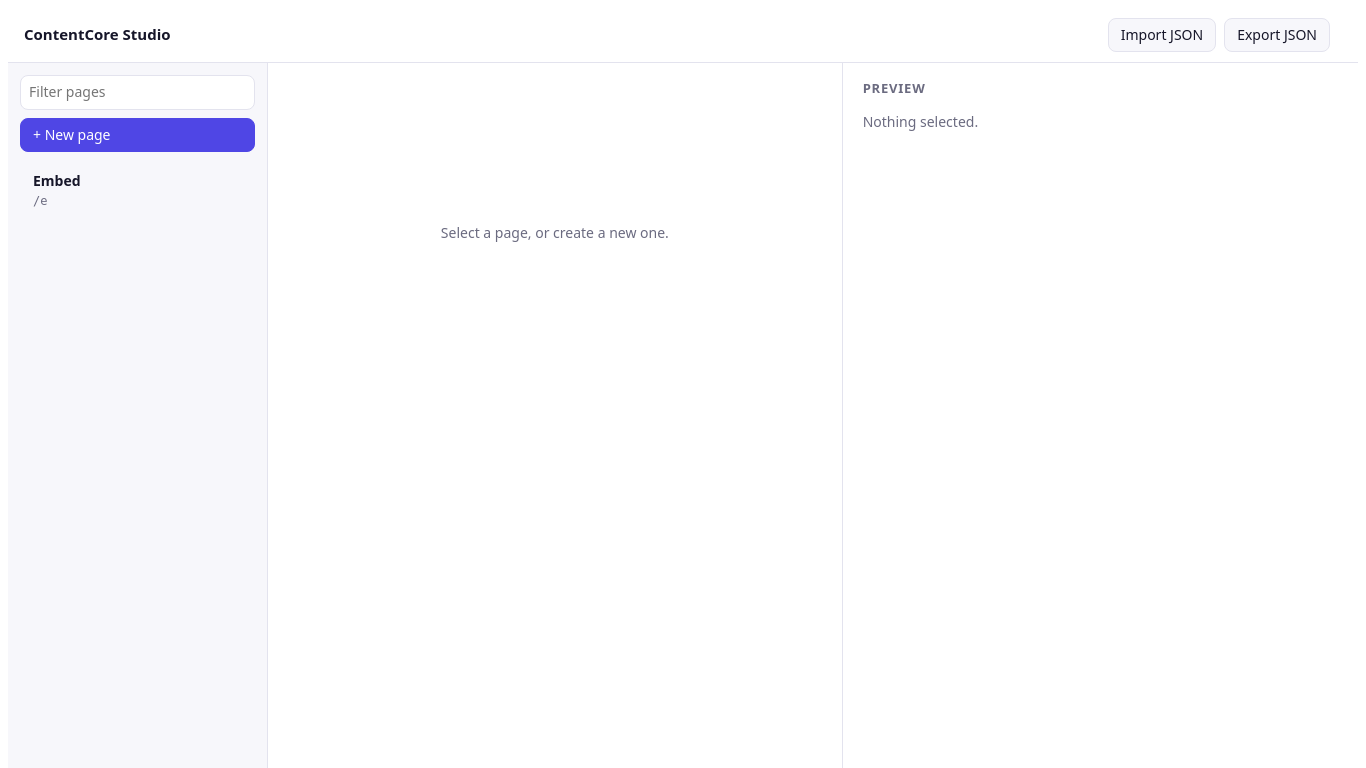
Test: review fixes › html blocks with markup rich text would drop open in JSON mode with a note
Click the button "Embed /e" at (138, 191), box [20,164,255,218]
(page scrolled)
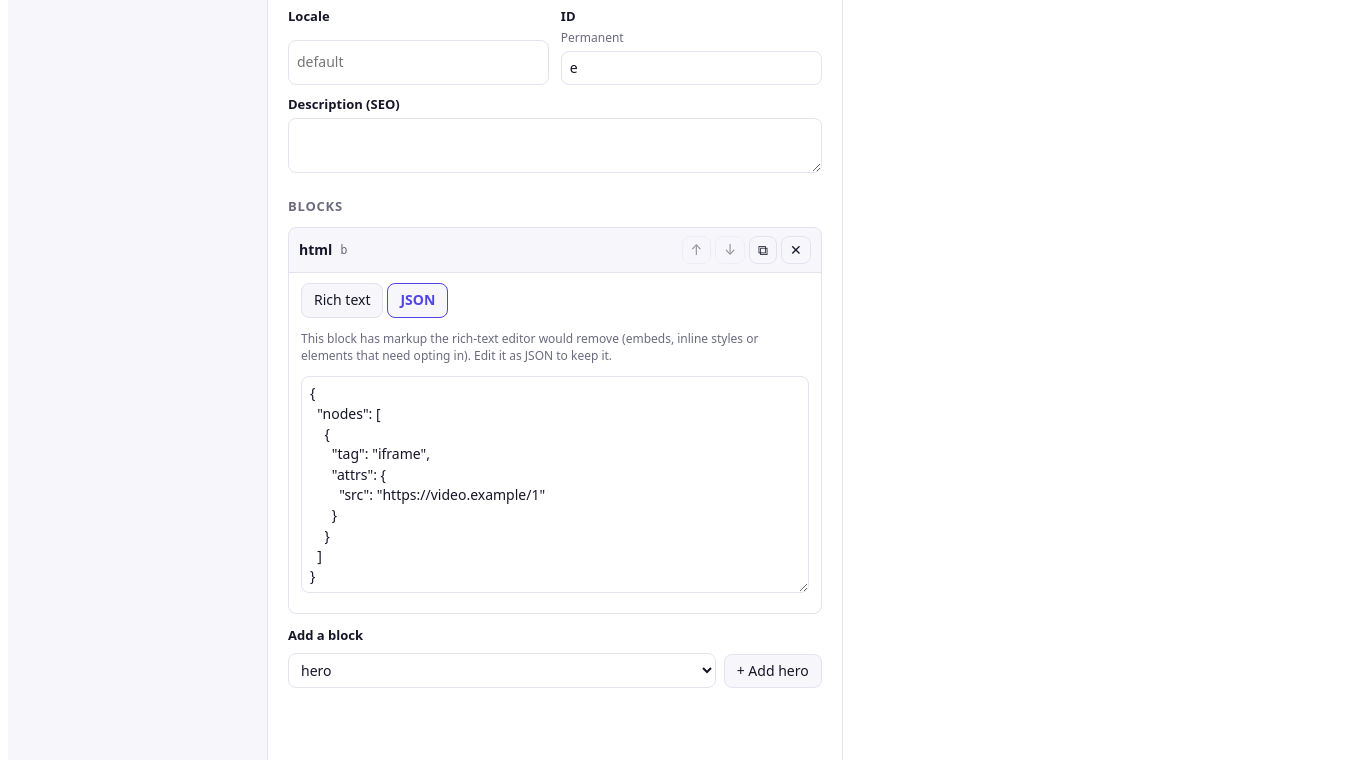
Expected: the text box with class "cc-json" is shown, [301,376,809,594]
Expected: the text "Edit it as JSON to keep it" is shown, [301,330,758,364]
